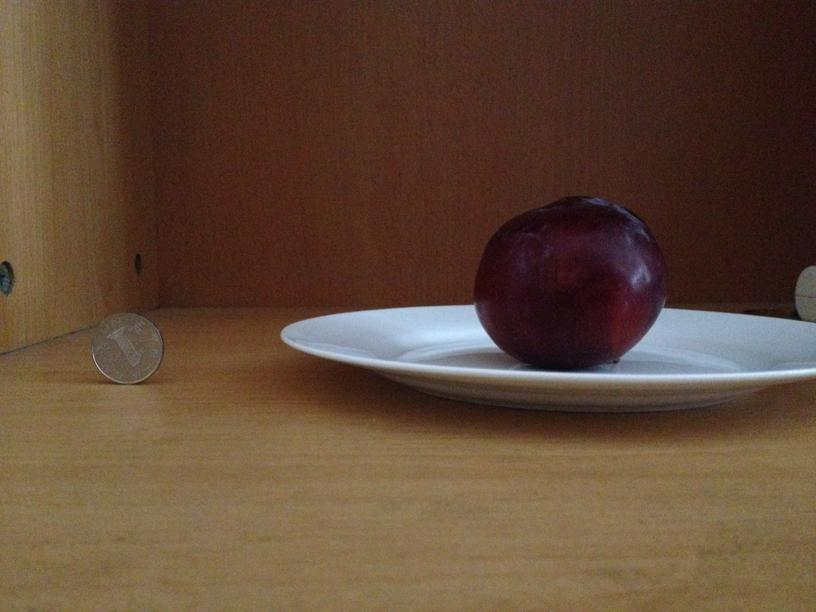coin: (87, 312, 165, 386)
plum: (469, 193, 666, 369)
